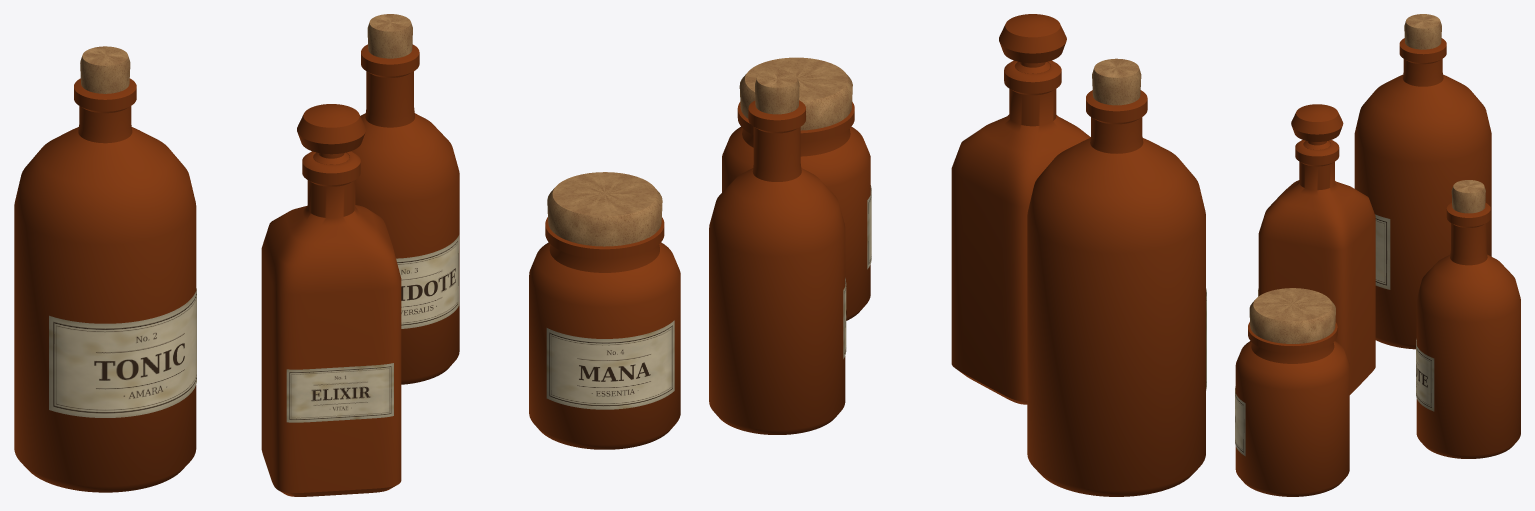
File: potions.obj
The picture shows the model from 3 angles, left to right: view 1: azimuth 30°, elevation 25°; view 2: azimuth 150°, elevation 25°; view 3: azimuth 270°, elevation 25°; orthographic projection. The views are drawn at different scales.
Visible parts, largest first — view 1: Bottle_2_Tall_Glass, Bottle_1_Square_Glass, Bottle_4_Jar_Glass, Bottle_3_Round_Glass, Bottle_2_Tall_Label, Bottle_4_Jar_Label, Bottle_4_Jar_Cork, Bottle_1_Square_Label, Bottle_3_Round_Label, Bottle_1_Square_Stopper, Bottle_2_Tall_Cork, Bottle_3_Round_Cork; view 2: Bottle_2_Tall_Glass, Bottle_3_Round_Glass, Bottle_1_Square_Glass, Bottle_4_Jar_Glass, Bottle_4_Jar_Cork, Bottle_1_Square_Stopper, Bottle_2_Tall_Cork, Bottle_3_Round_Cork; view 3: Bottle_2_Tall_Glass, Bottle_3_Round_Glass, Bottle_4_Jar_Glass, Bottle_1_Square_Glass, Bottle_4_Jar_Cork, Bottle_1_Square_Stopper, Bottle_2_Tall_Cork, Bottle_2_Tall_Label, Bottle_3_Round_Cork, Bottle_3_Round_Label, Bottle_4_Jar_Label.
Boxes of the visible parts, <box> form: Bottle_2_Tall_Glass: <box>14,78,196,492</box>; Bottle_1_Square_Glass: <box>261,151,401,496</box>; Bottle_4_Jar_Glass: <box>529,217,680,449</box>; Bottle_3_Round_Glass: <box>351,44,459,384</box>; Bottle_2_Tall_Label: <box>49,288,196,417</box>; Bottle_4_Jar_Label: <box>546,320,674,409</box>; Bottle_4_Jar_Cork: <box>547,172,662,246</box>; Bottle_1_Square_Label: <box>286,363,393,422</box>; Bottle_3_Round_Label: <box>396,235,459,328</box>; Bottle_1_Square_Stopper: <box>297,104,365,164</box>; Bottle_2_Tall_Cork: <box>80,46,130,93</box>; Bottle_3_Round_Cork: <box>367,14,412,58</box>; Bottle_2_Tall_Glass: <box>1027,90,1205,496</box>; Bottle_3_Round_Glass: <box>709,100,845,434</box>; Bottle_1_Square_Glass: <box>951,60,1090,404</box>; Bottle_4_Jar_Glass: <box>722,102,870,320</box>; Bottle_4_Jar_Cork: <box>739,57,852,130</box>; Bottle_1_Square_Stopper: <box>999,14,1066,73</box>; Bottle_2_Tall_Cork: <box>1092,58,1141,105</box>; Bottle_3_Round_Cork: <box>755,70,799,114</box>; Bottle_2_Tall_Glass: <box>1354,38,1491,349</box>; Bottle_3_Round_Glass: <box>1416,203,1520,458</box>; Bottle_4_Jar_Glass: <box>1235,322,1349,496</box>; Bottle_1_Square_Glass: <box>1258,140,1375,394</box>; Bottle_4_Jar_Cork: <box>1249,288,1335,343</box>; Bottle_1_Square_Stopper: <box>1291,104,1343,149</box>; Bottle_2_Tall_Cork: <box>1404,14,1441,49</box>; Bottle_2_Tall_Label: <box>1375,214,1390,289</box>; Bottle_3_Round_Cork: <box>1451,180,1485,213</box>; Bottle_3_Round_Label: <box>1416,339,1434,411</box>; Bottle_4_Jar_Label: <box>1235,386,1245,456</box>.
Bounding box in the file's own units: 0.297 × 0.205 × 0.1753.
7 materials, 2 textured.
